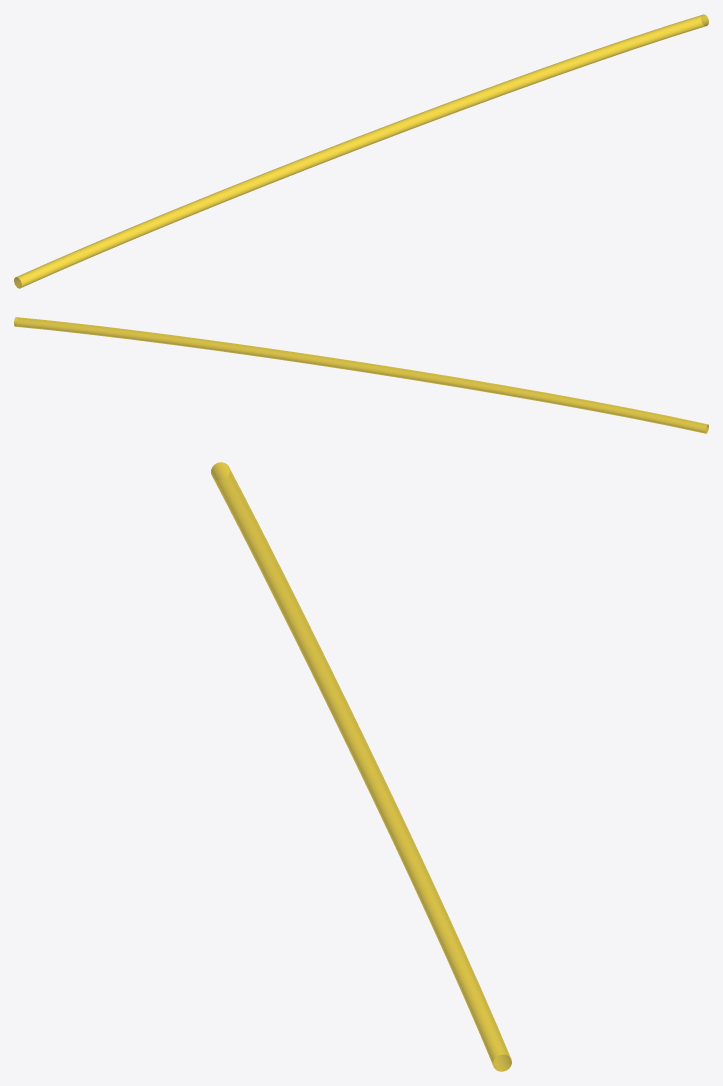
File: Event_84804159_track_84.fbx
The picture shows the model from 3 angles, top to bottom: view 1: azimuth 30°, elevation 25°; view 2: azimuth 150°, elevation 25°; view 3: azimuth 270°, elevation 25°; orthographic projection. The views are drawn at different scales.
Visible parts, largest first — view 1: Model; view 2: Model; view 3: Model.
Part boxes in pixels (x1,y1,x2,y2): Model: [14, 14, 708, 288]; Model: [14, 317, 708, 433]; Model: [211, 462, 511, 1071].
Size of the model in its own units: 2.96 by 0.0961 by 0.6199.
